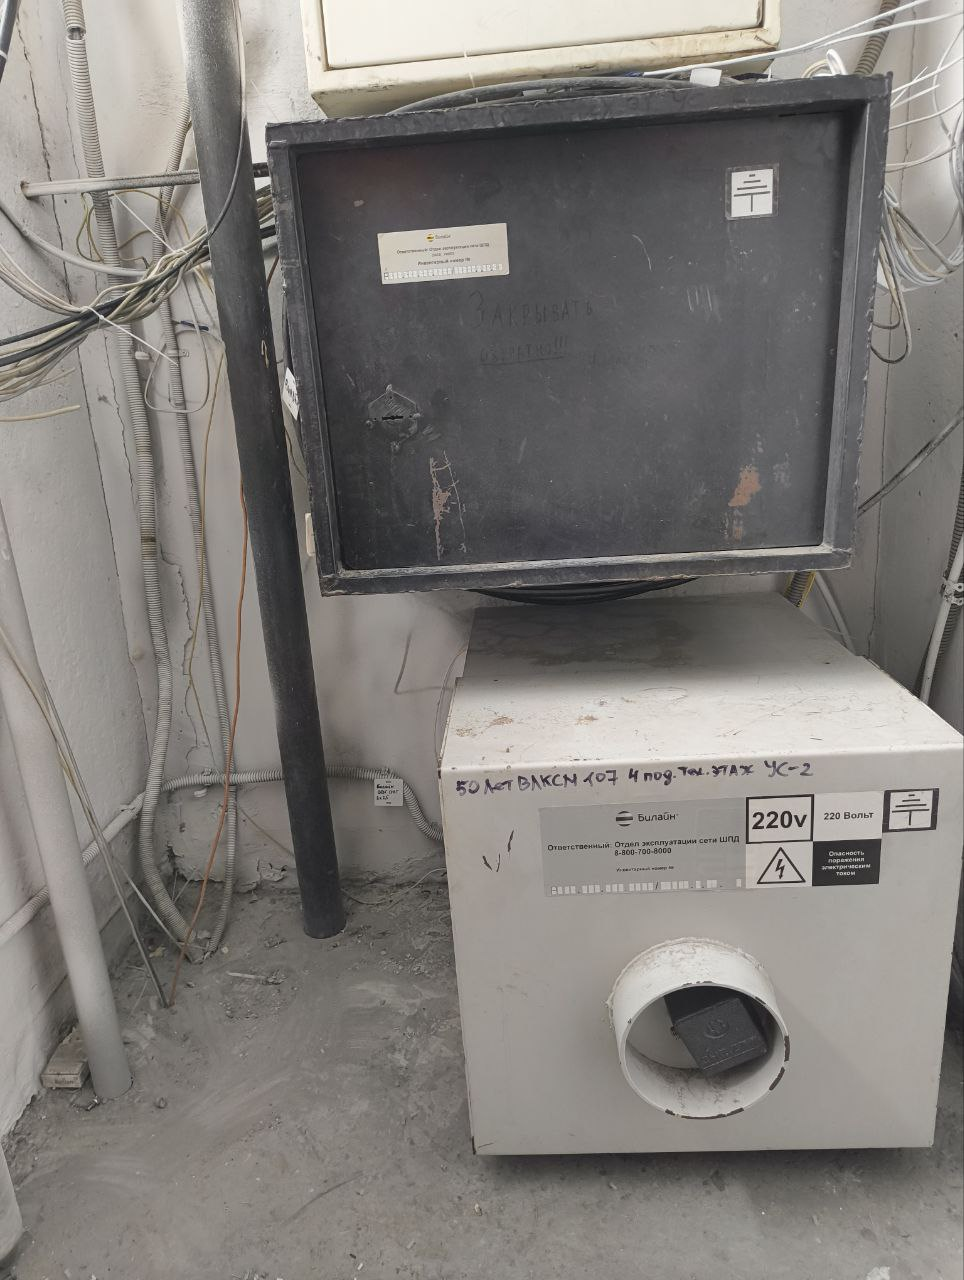shta-9: (430, 583, 961, 1157)
shta-9m: (260, 66, 898, 599)
